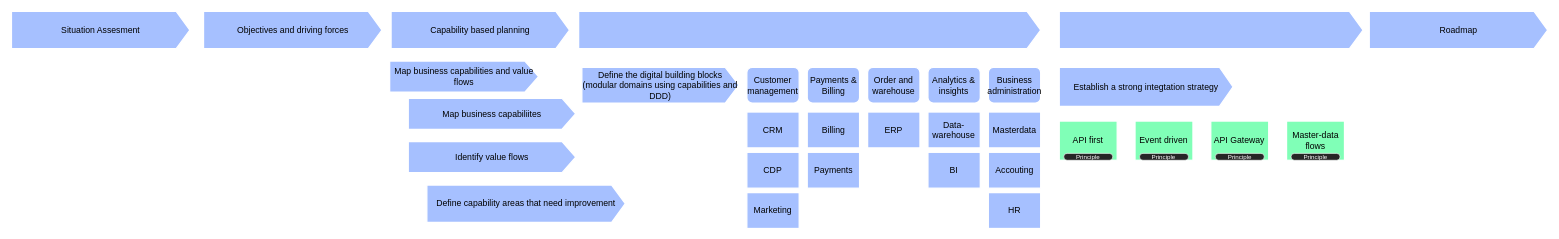
Image size: 1559x239. Some labels were removed from this diagram. The centre of each missing label's shape, as x and y in pixels:
Define domains and subdomains: (809,30)
Integration strategy: (1210,30)
